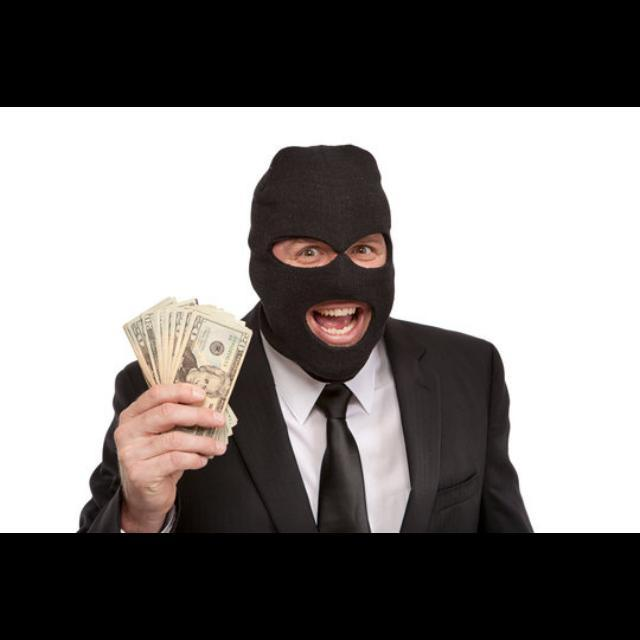criminal: (80, 143, 535, 535)
